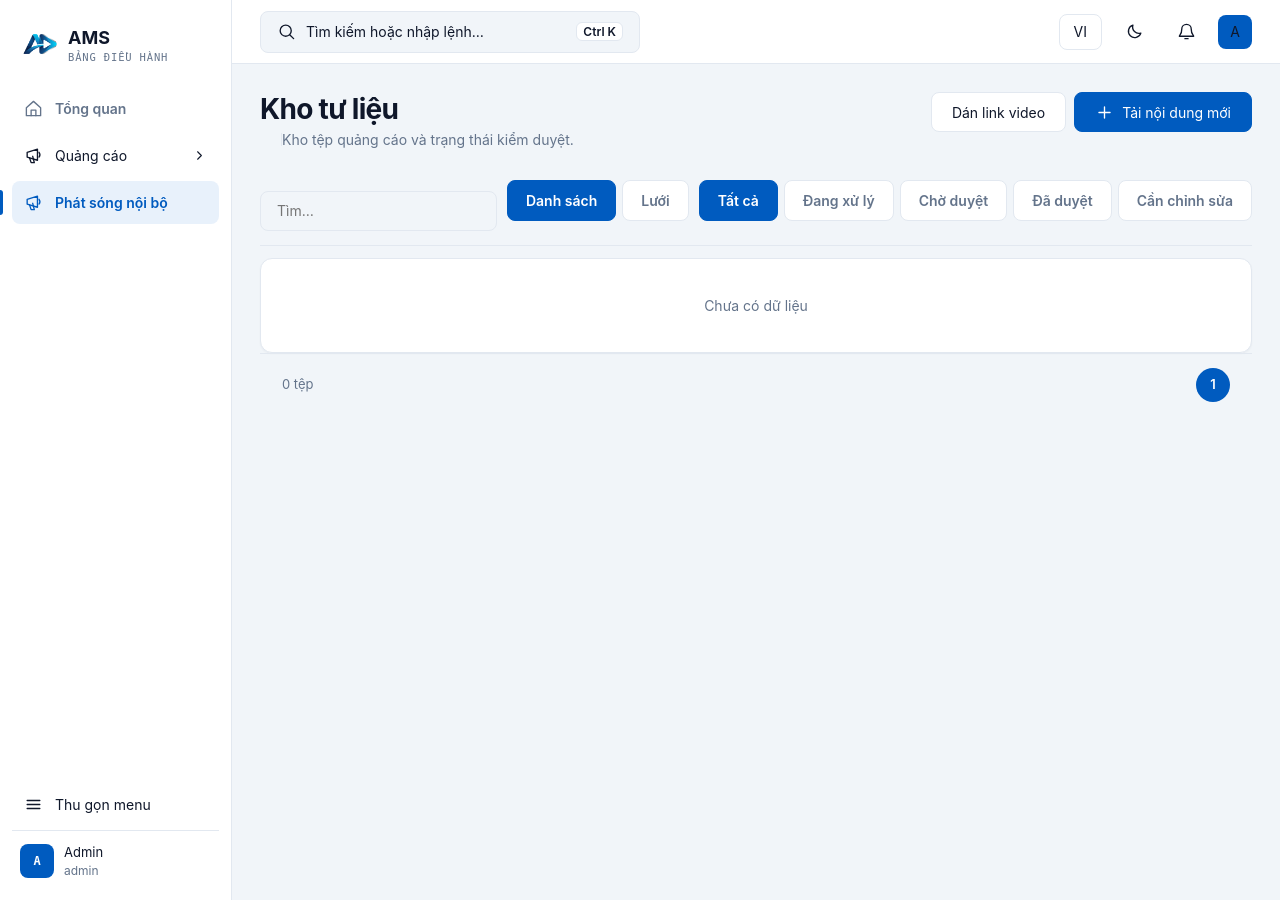
Test: Noi dung & Media: moi trang thai khong duyet duoc co giai thich + hanh dong › hop thoai tai len ghi ro gioi han dung luong/thoi luong
Step 1. Click the button "Tải nội dung mới" → (1163, 112), box [1074,92,1252,132]
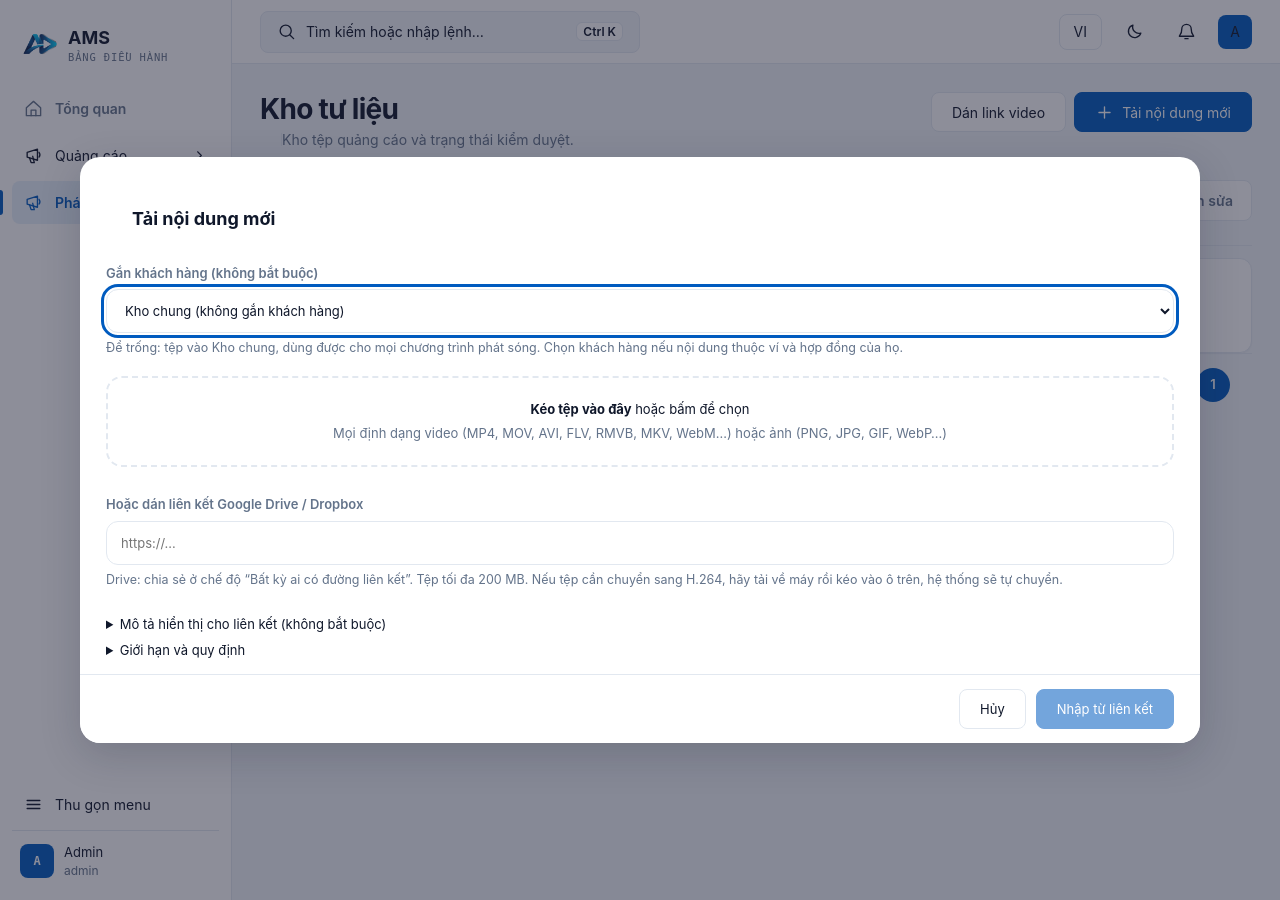
Expected: the dialog "Tải nội dung" shows "H.264", [106,572,1063,586]
